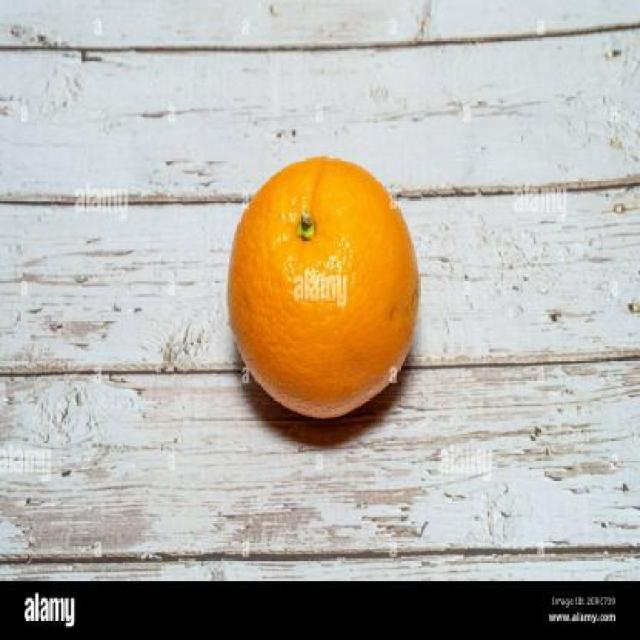Orange: (225, 154, 420, 420)
